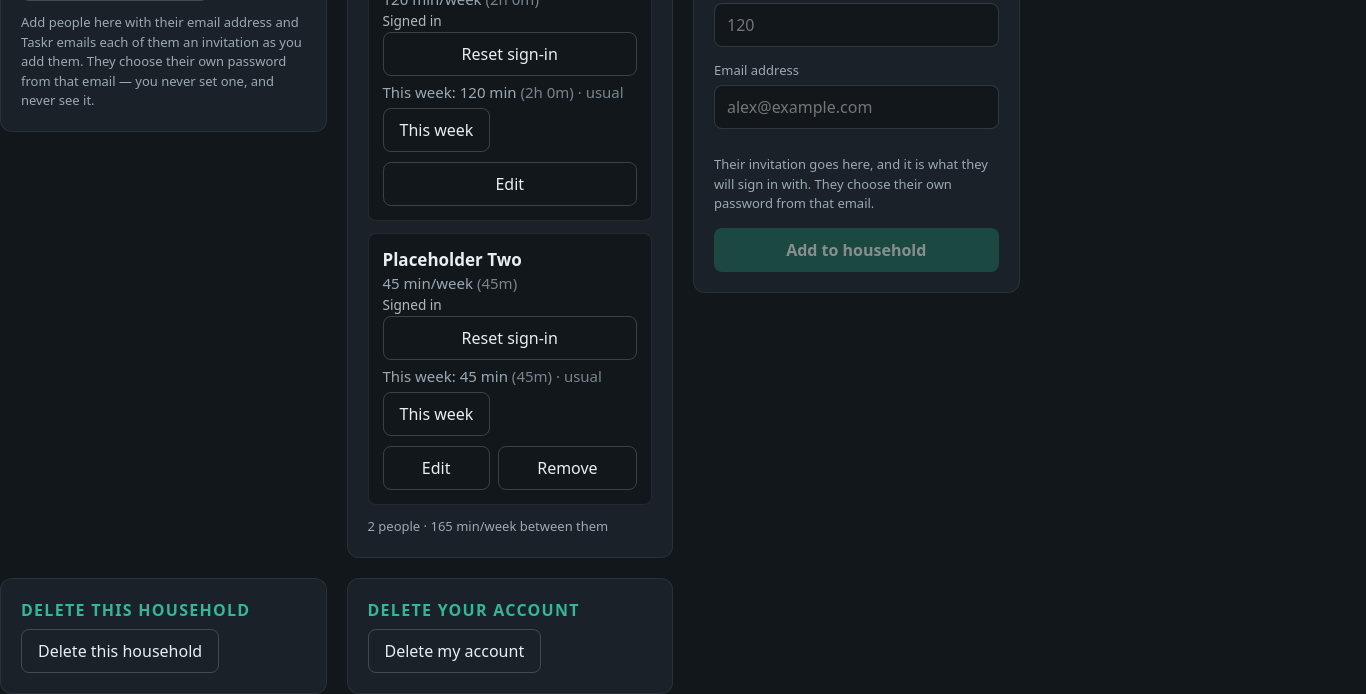
Test case: deleting your account from the Who tab (#432) › tells the organizer their leave is a hand-over or a delete, and opens that confirm
(page scrolled)
Step 1. Click the button "Delete my account" → click(454, 650), box x1=368 y1=628 x2=541 y2=672
(page scrolled)
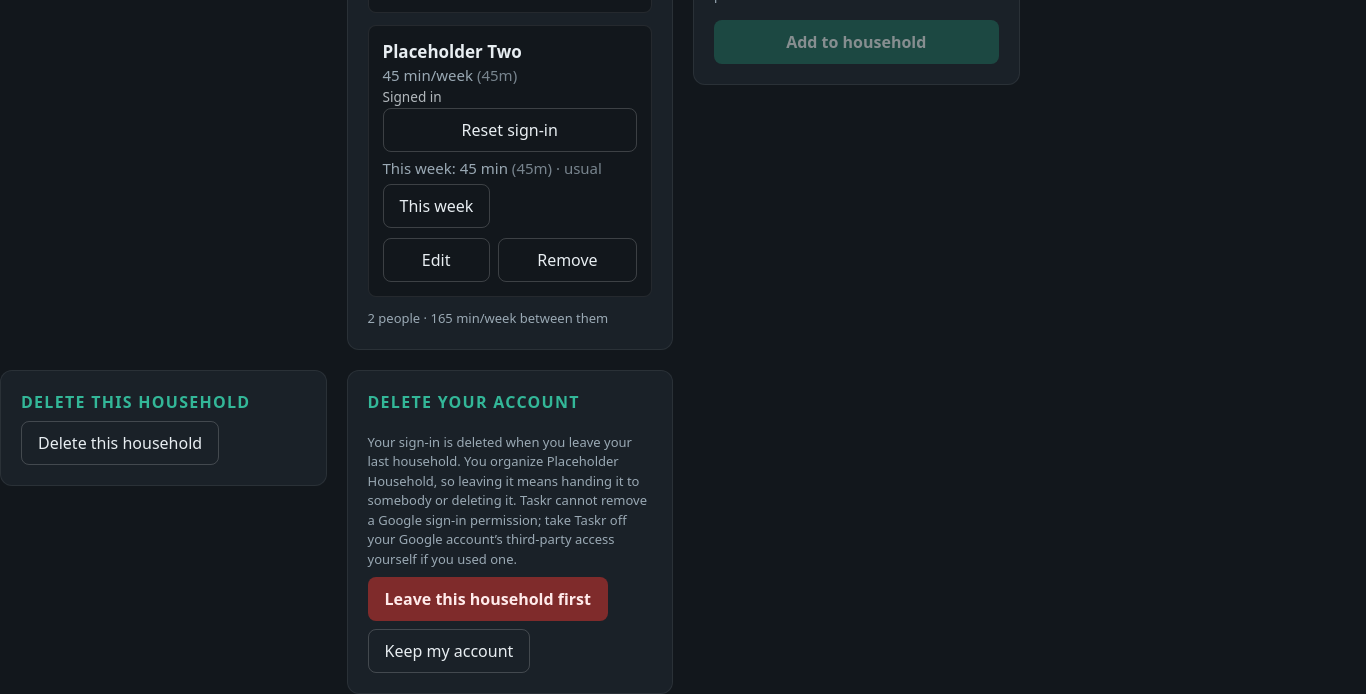
Expected: the text with test id "delete-account-note" shows "you organize placeholder household, so leaving it means handing it to somebody or deleting it", x1=368 y1=452 x2=640 y2=509
Step 2. Click the button "Leave this household first" → click(488, 599), box x1=368 y1=577 x2=608 y2=621
(page scrolled)
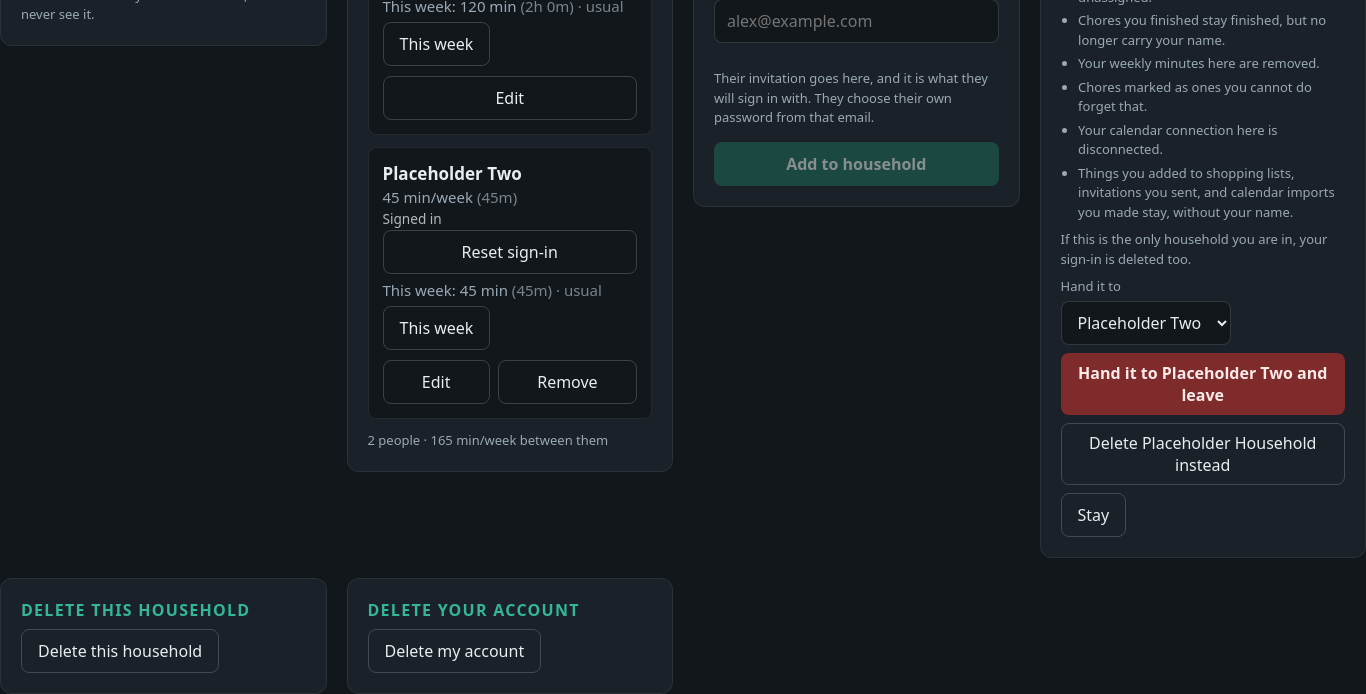
Expected: the button "Hand it to Placeholder Two and leave" is shown, x1=1060 y1=353 x2=1345 y2=415
